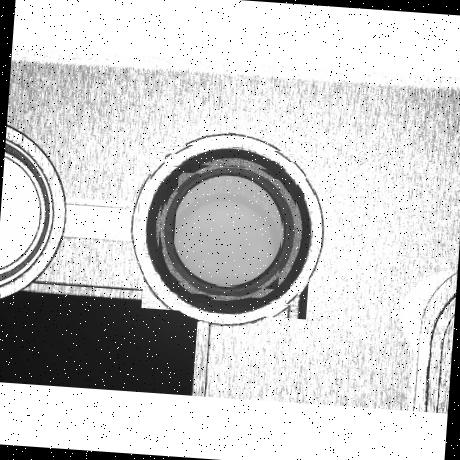Hole: (142, 142, 318, 320)
Hole2: (156, 154, 306, 304)
Hole3: (160, 162, 298, 300)
Hole4: (171, 173, 287, 289)
